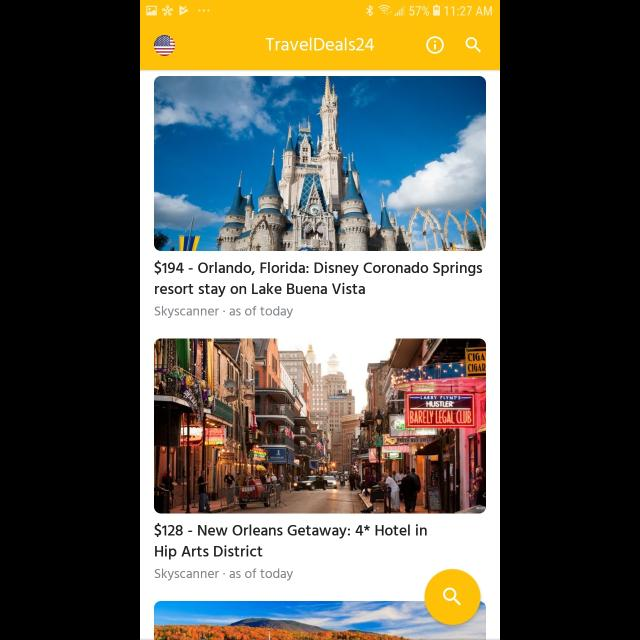icon: (424, 569, 480, 625), (426, 37, 444, 55), (466, 38, 480, 52)
image: (154, 338, 486, 514), (154, 76, 486, 252), (154, 36, 176, 56)
text: (154, 600, 486, 640), (154, 260, 482, 298), (155, 522, 427, 560), (155, 569, 293, 581), (155, 306, 293, 318), (266, 38, 374, 51)
uppertaskbar: (140, 1, 500, 17)
